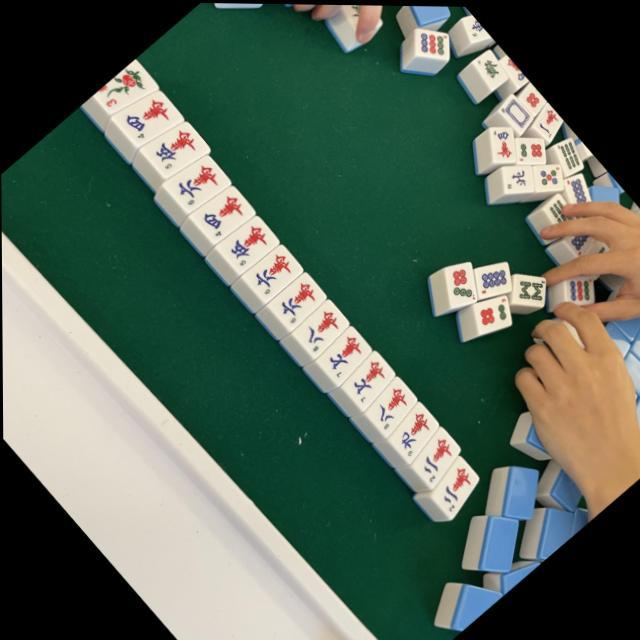sc2: (429, 461, 483, 514), (409, 432, 463, 484)
sc4: (121, 90, 176, 144), (198, 188, 250, 240)
sc5: (221, 218, 276, 272), (150, 122, 204, 176)
sc6: (170, 157, 224, 210), (246, 247, 300, 300), (272, 276, 322, 326)
sc7: (318, 328, 372, 382), (344, 356, 394, 404)
sc8: (366, 381, 418, 432), (295, 304, 348, 354)
sc9: (387, 406, 441, 459)
